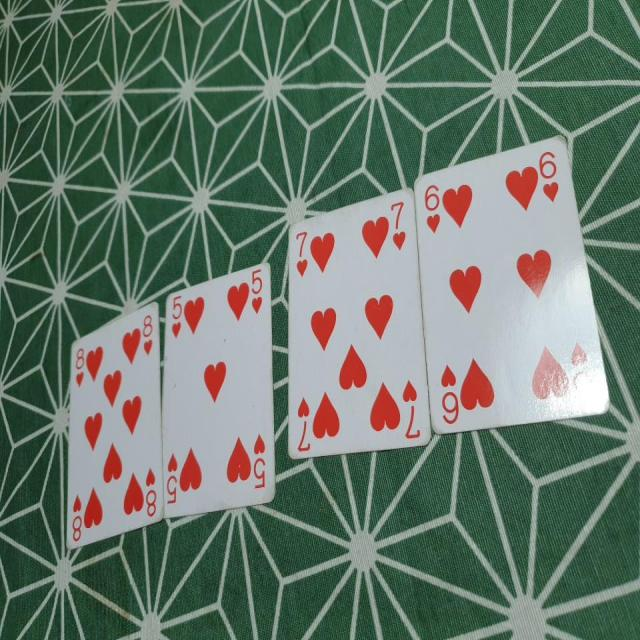5 Hearts: (161, 258, 281, 533)
6 Hearts: (410, 138, 614, 444)
7 Hearts: (288, 185, 425, 454)
8 Hearts: (60, 298, 168, 548)
